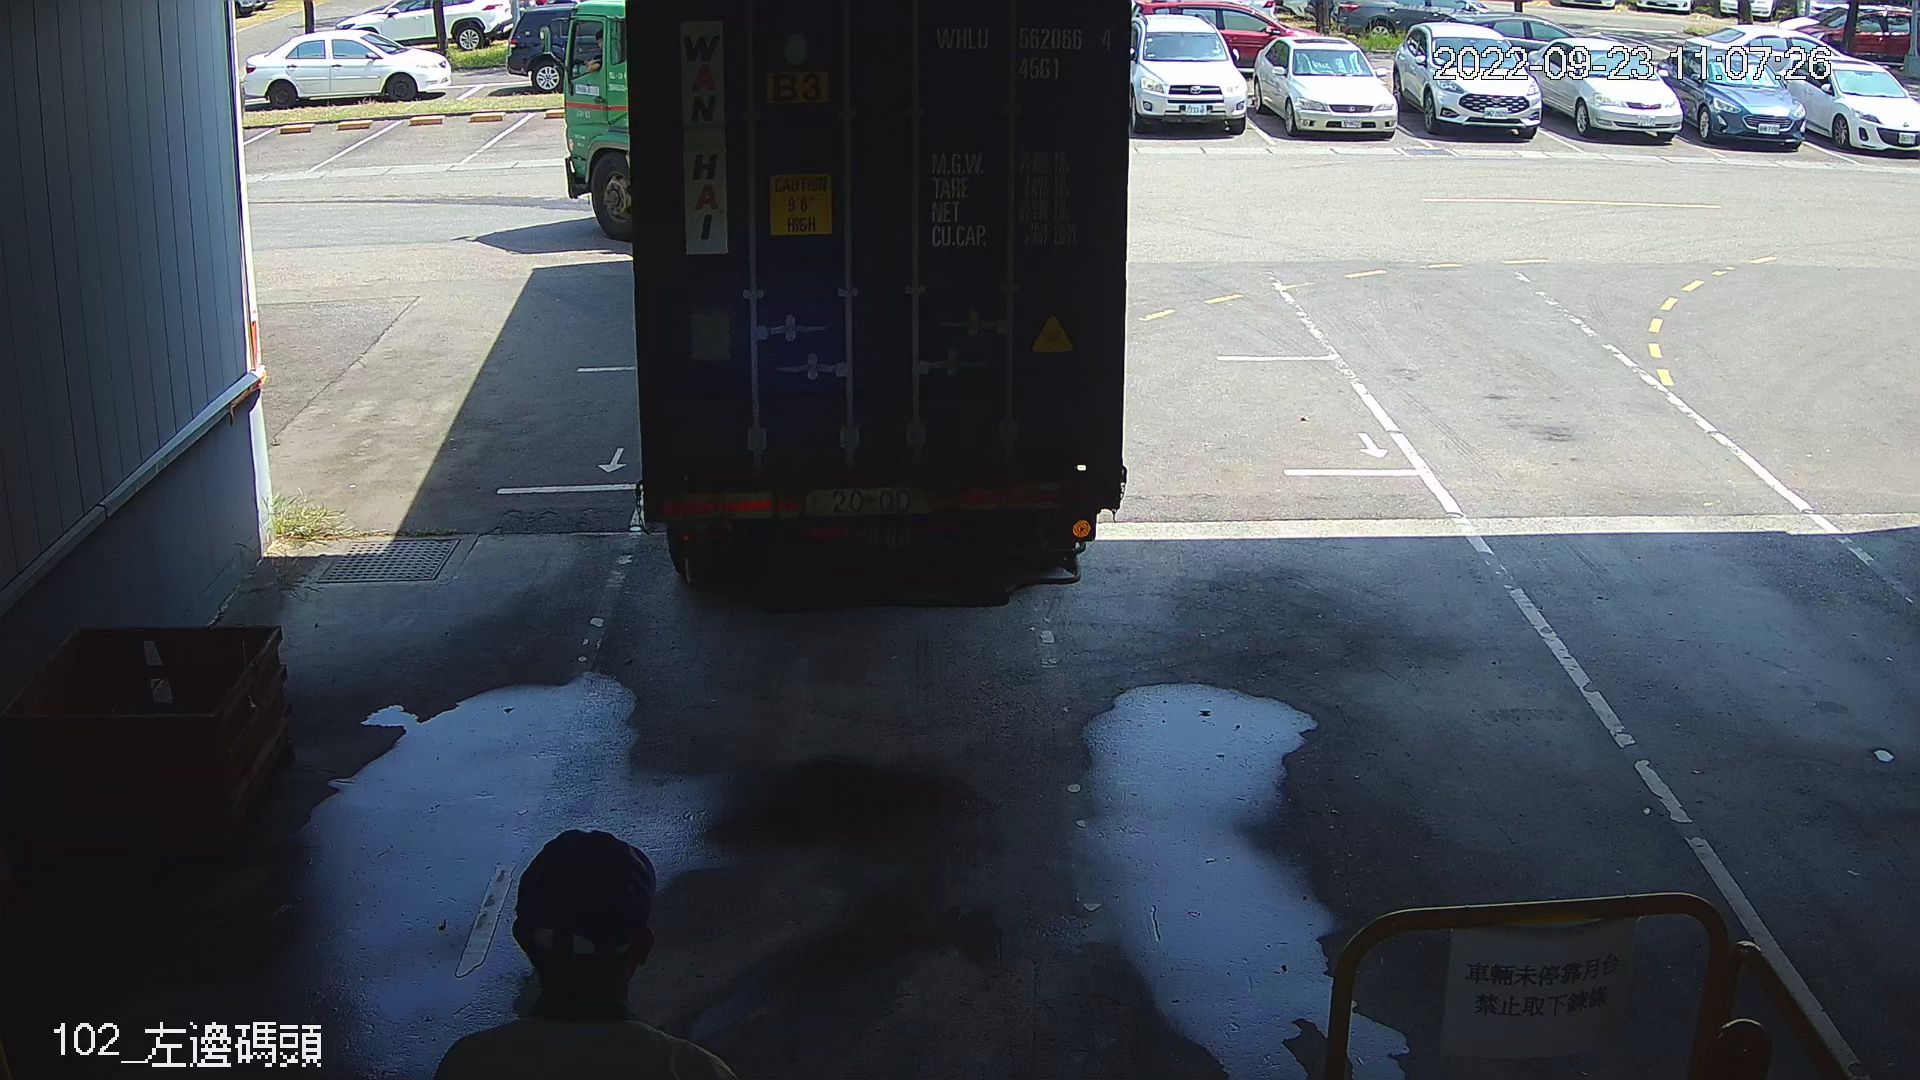container: (928, 15, 1122, 88)
